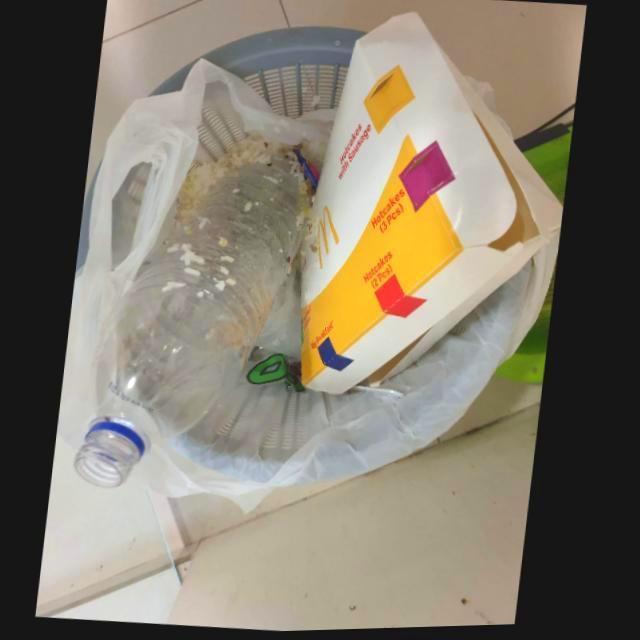cardboard: (302, 12, 565, 396)
left_over_food: (178, 138, 289, 216)
plastic_bottle: (76, 164, 307, 488)
